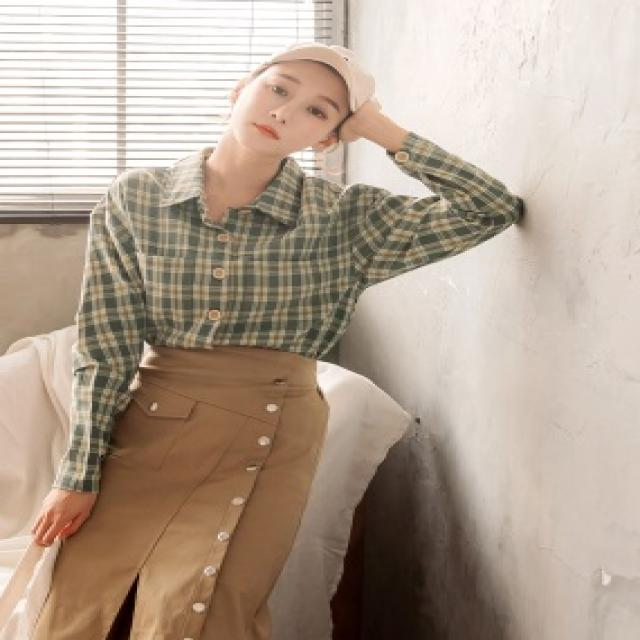plaid: (73, 152, 539, 375)
